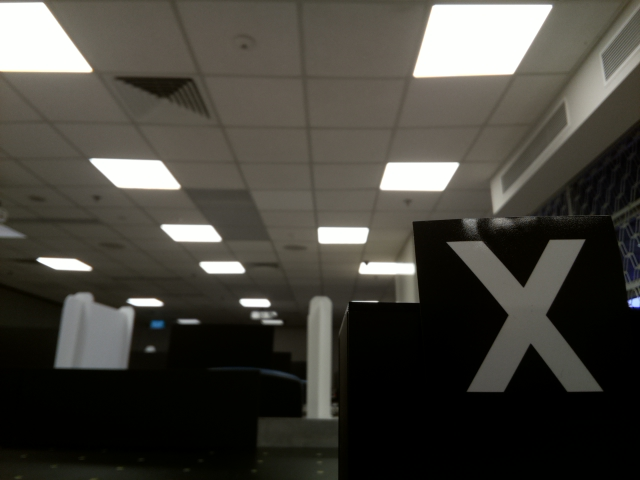x: (435, 229, 610, 397)
